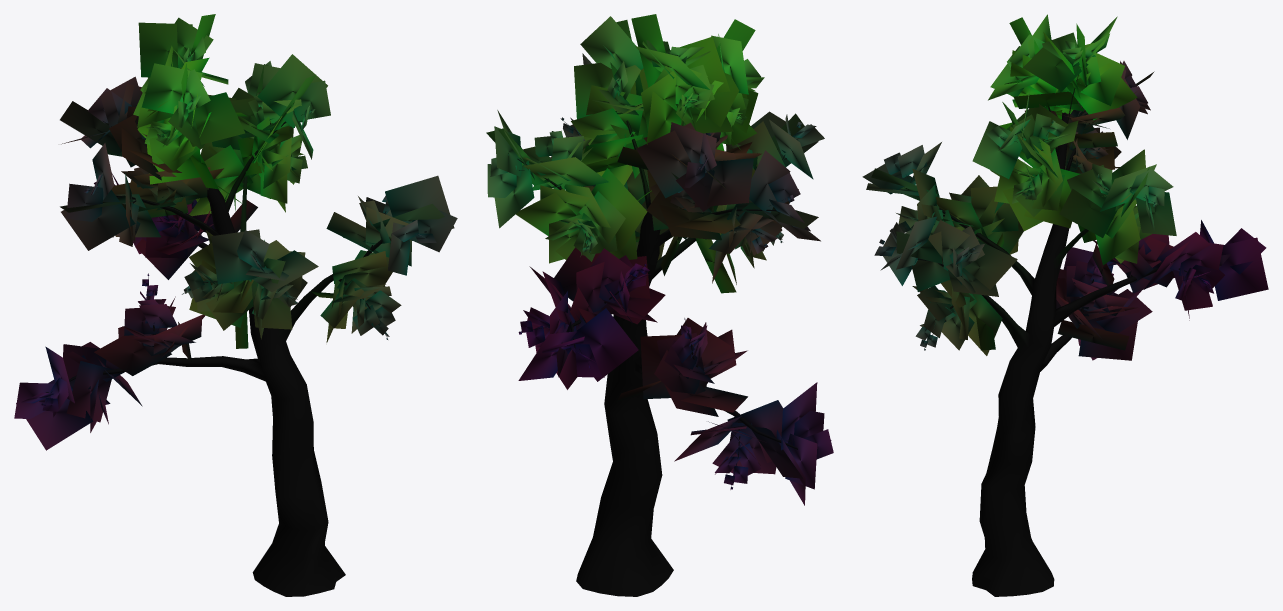
The model's file is Tree_CherrySmall.FBX.
3 views of the same model, side by side, from view 1: azimuth 30°, elevation 25°; view 2: azimuth 150°, elevation 25°; view 3: azimuth 270°, elevation 25° (orthographic). The views are drawn at different scales.
Parts seen in each view (by area): view 1: Tree_0; view 2: Tree_0; view 3: Tree_0.
Boxes of the visible parts, x1,y1,x2,y2 form: Tree_0: (14, 14, 457, 596); Tree_0: (486, 14, 833, 596); Tree_0: (862, 14, 1268, 596).
Bounding box in the file's own units: 101 × 161 × 112.
